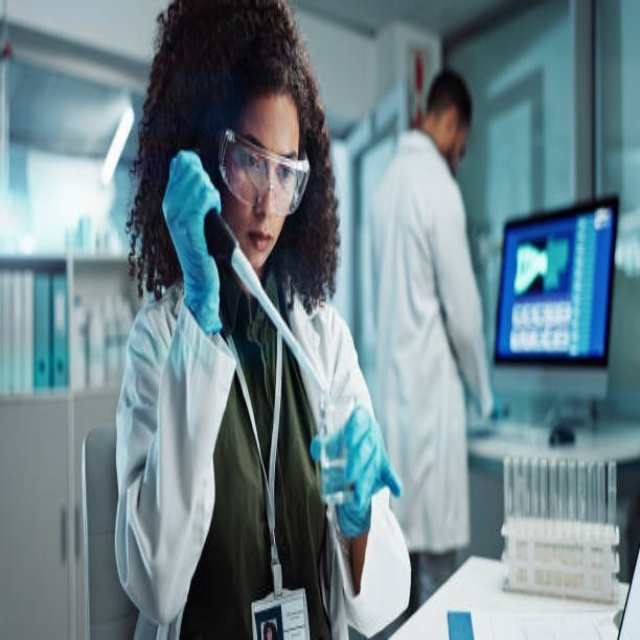Gafas: (216, 127, 311, 220)
Guantes: (158, 147, 225, 323), (312, 400, 399, 531)
Sin_mascara: (247, 222, 274, 269)
